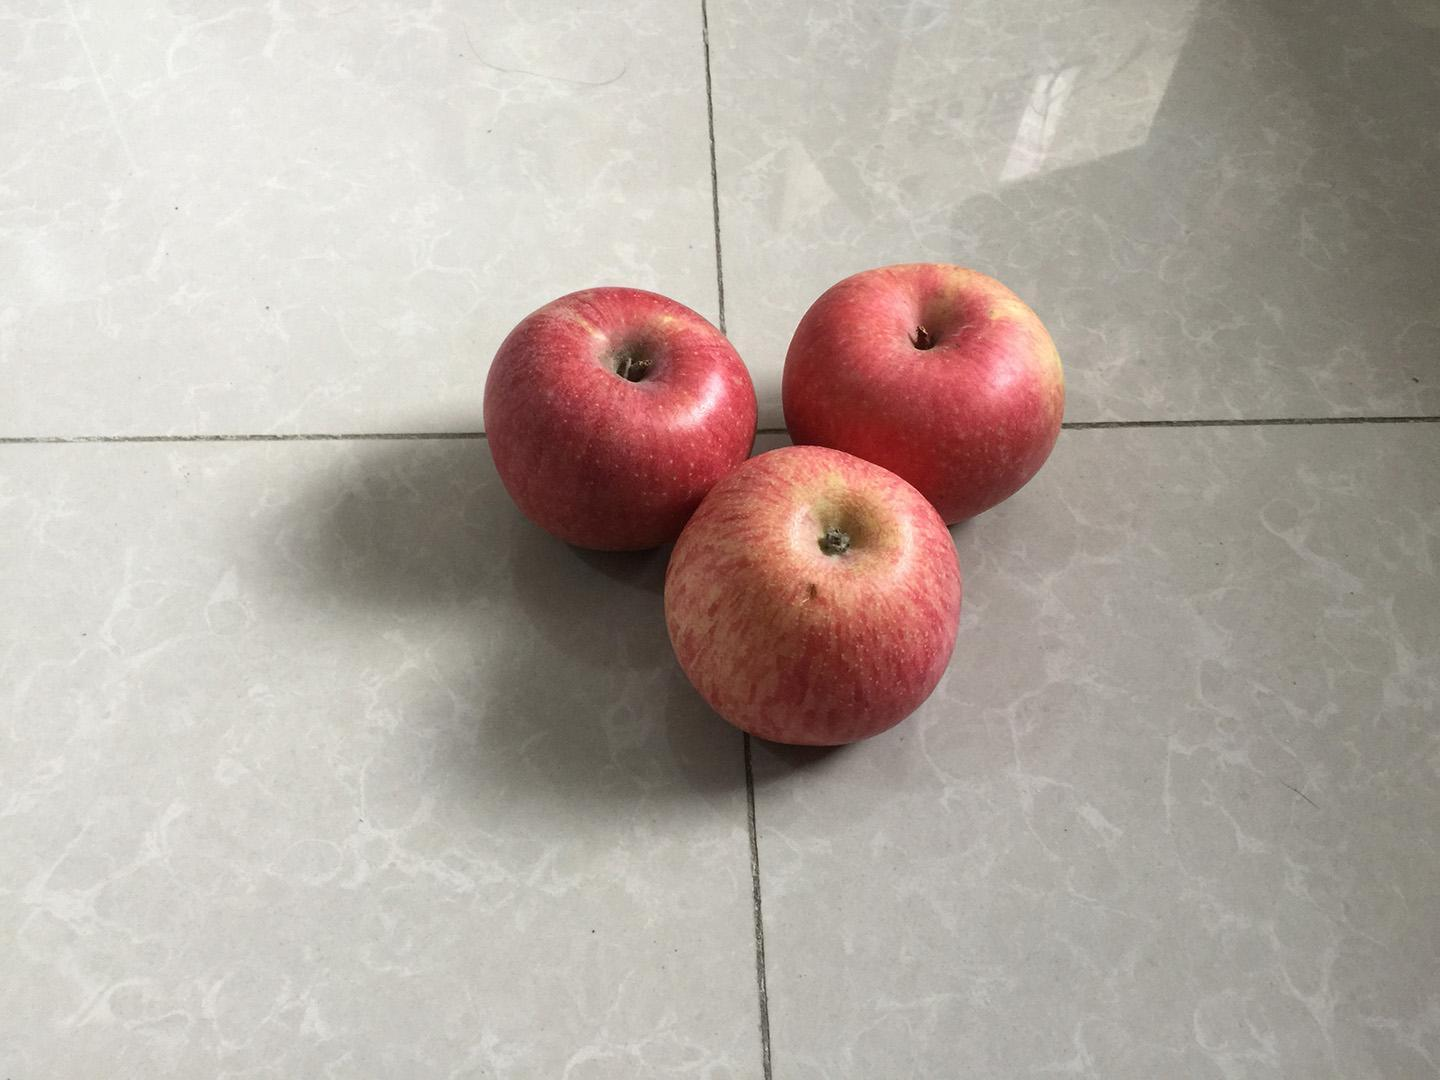apple: (658, 439, 971, 751), (471, 280, 772, 563), (774, 252, 1076, 532)
